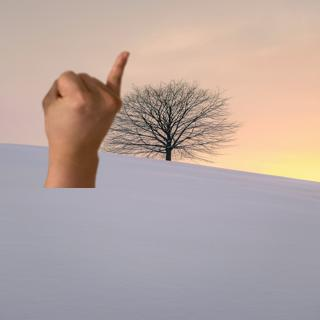FINE: (37, 47, 133, 158)
